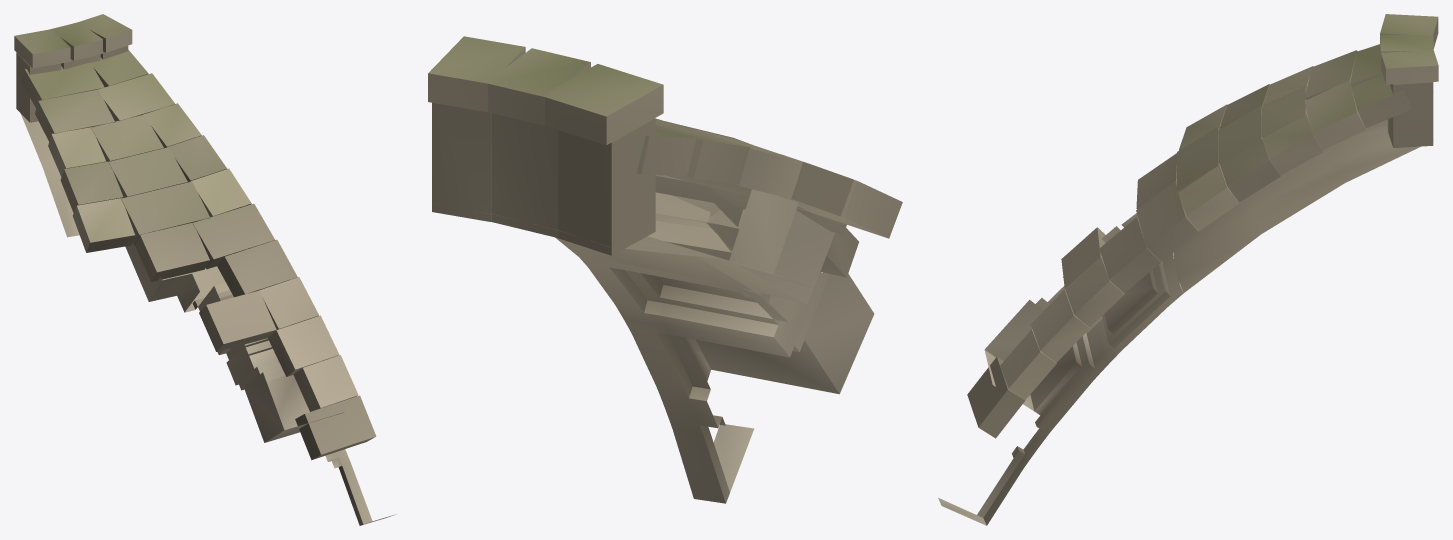
The model's file is dome_shell_bp1_mid.glb.
3 renders of one model, left to right at view 1: azimuth 30°, elevation 25°; view 2: azimuth 150°, elevation 25°; view 3: azimuth 270°, elevation 25°, orthographic. The views are drawn at different scales.
Visible parts, largest first — view 1: dome_shell_bp1_mid; view 2: dome_shell_bp1_mid; view 3: dome_shell_bp1_mid.
Boxes of the visible parts, x1,y1,x2,y2 form: dome_shell_bp1_mid: (14, 14, 396, 525); dome_shell_bp1_mid: (428, 36, 902, 503); dome_shell_bp1_mid: (938, 14, 1438, 525).
Size of the model in its own units: 14.16 by 25.45 by 27.67.
